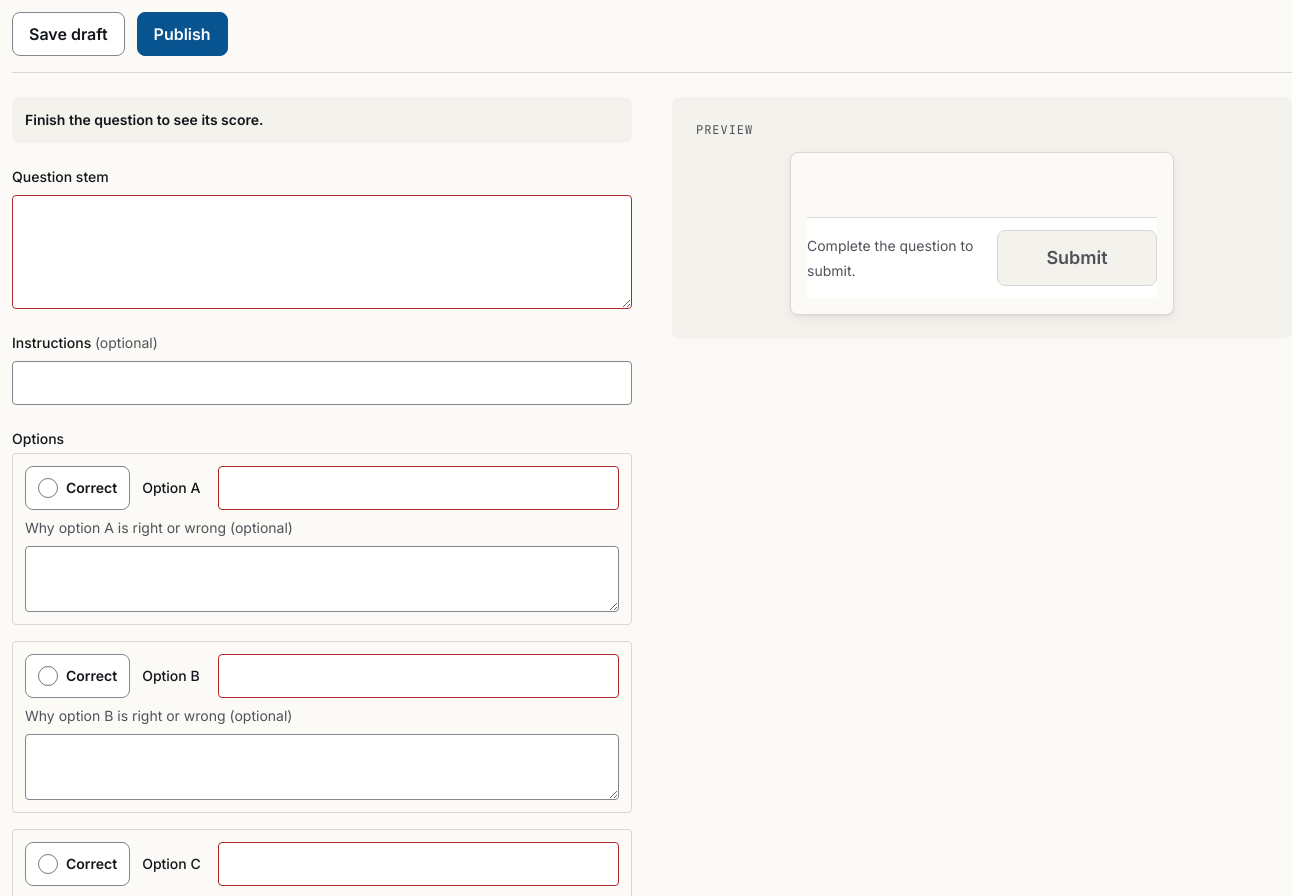
Test: MultipleChoiceEditor › keeps what was typed while a save was still in flight, and keeps it marked unsaved
This screenshot has width=1292, height=896.
Type "First" into the text box labelled "Question stem".
click(322, 252); type("First")  # box [12, 195, 632, 309]
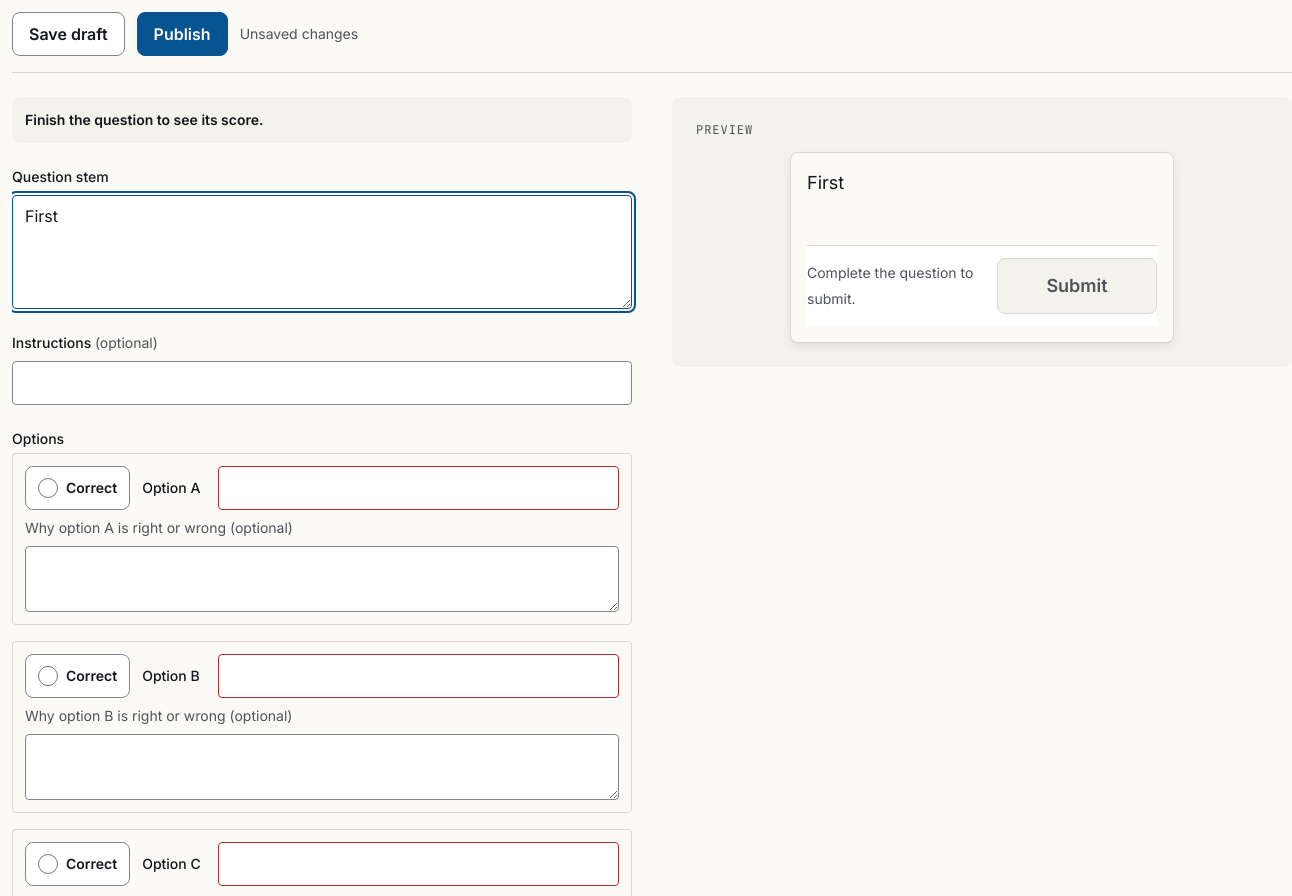
Click the button "Save draft".
click(68, 34)  # box [12, 12, 125, 56]
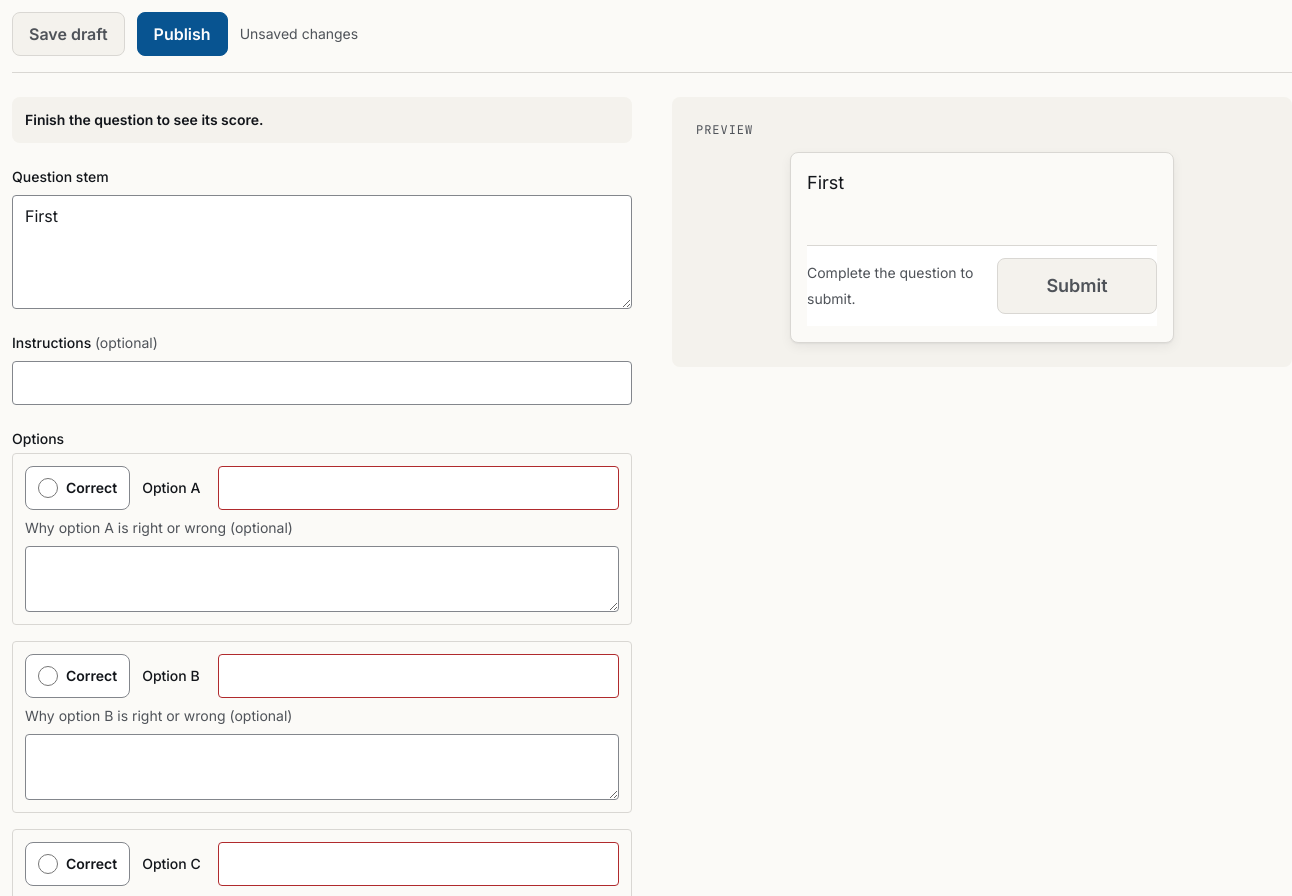
Type " and more" into the text box labelled "Question stem".
click(322, 252); type(" and more")  # box [12, 195, 632, 309]
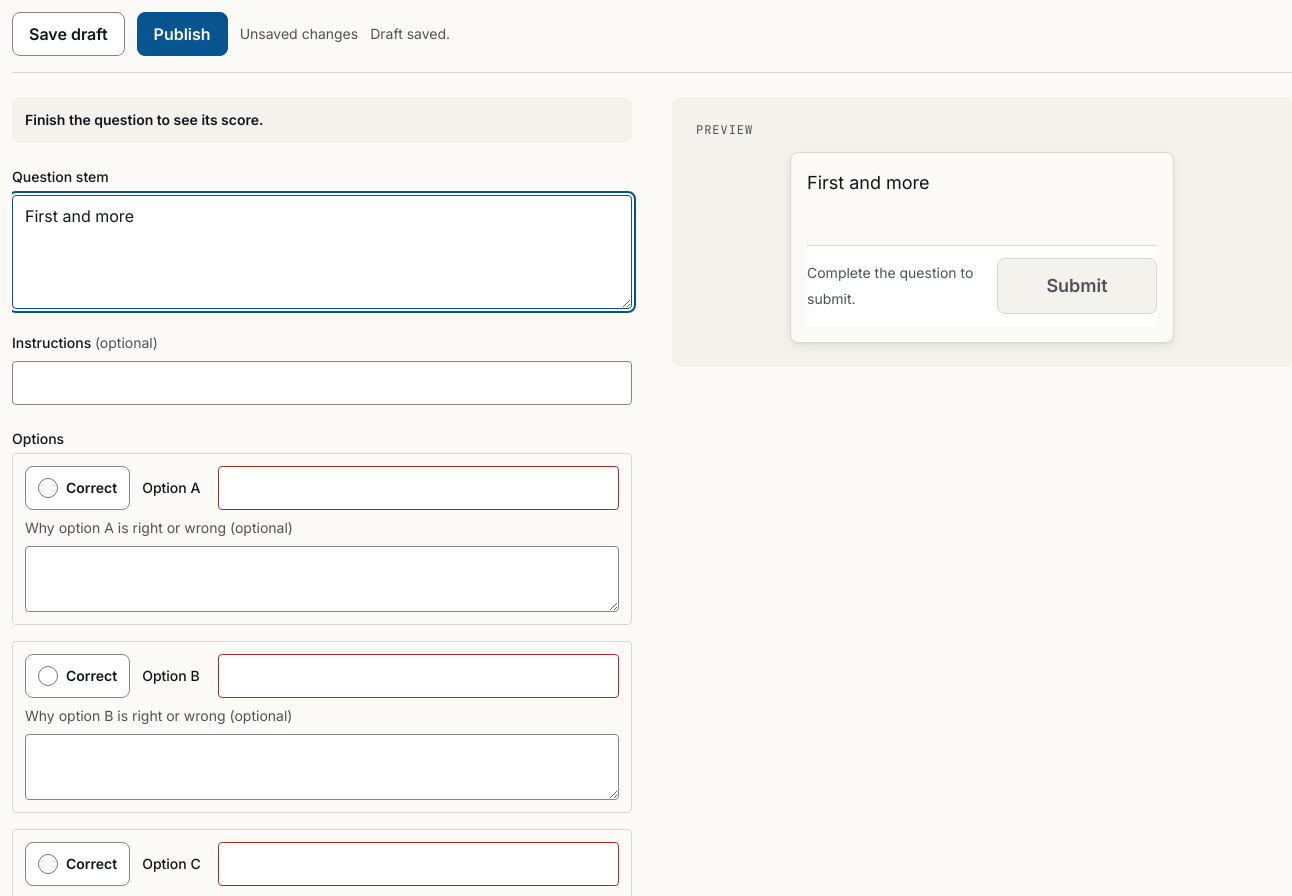
expect the text "Unsaved changes" is shown: met, box [240, 24, 358, 44]
expect the message reads "Draft saved.": met, box [370, 25, 450, 42]
expect the text box labelled "Question stem" holds "First and more": met, box [12, 195, 632, 309]
